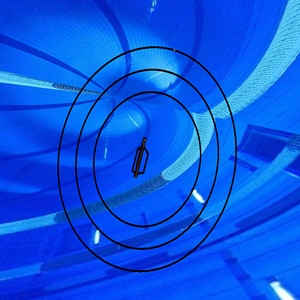circle: (55, 43, 238, 275)
submarine: (129, 136, 153, 179)
